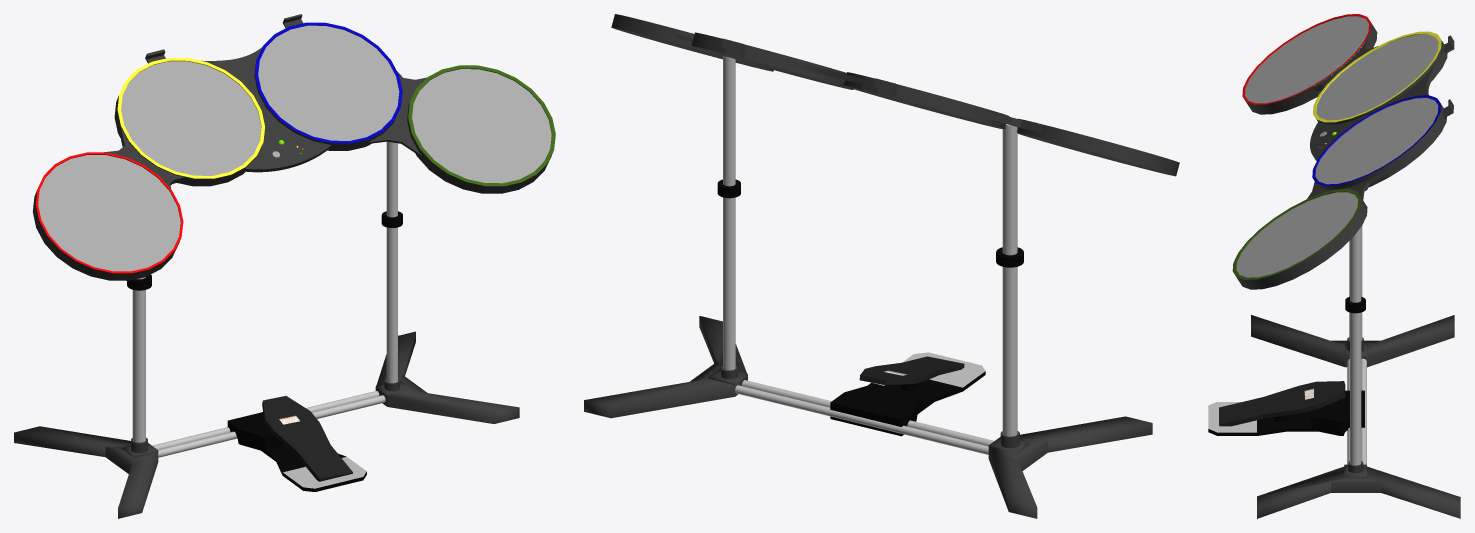
File: jazz set.dae
The picture shows the model from 3 angles, left to right: view 1: azimuth 30°, elevation 25°; view 2: azimuth 150°, elevation 25°; view 3: azimuth 270°, elevation 25°; orthographic projection. The views are drawn at different scales.
Parts seen in each view (by area): view 1: SketchUp (×19); view 2: SketchUp (×12); view 3: SketchUp (×17).
Part boxes in pixels (x1=…): SketchUp (×19): x1=14, y1=14, x2=555, y2=518; SketchUp (×12): x1=584, y1=14, x2=1179, y2=518; SketchUp (×17): x1=1208, y1=14, x2=1460, y2=518.
Bounding box in the file's own units: 149 × 66.81 × 103.
